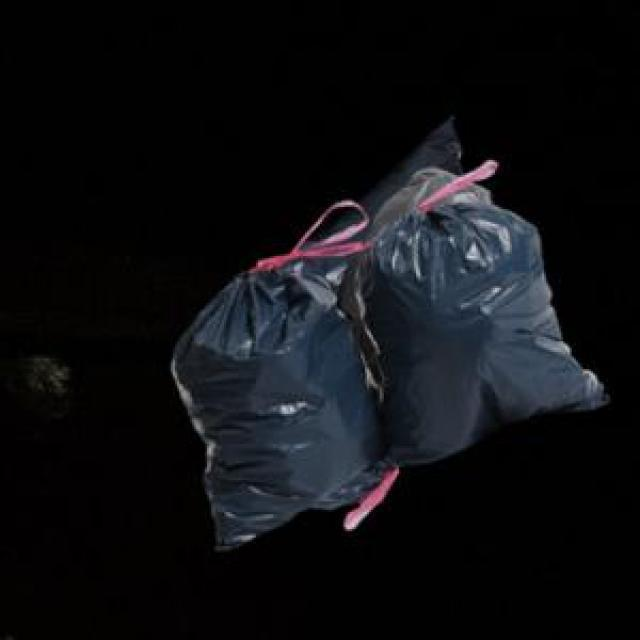Vinyl: (172, 120, 606, 547)
